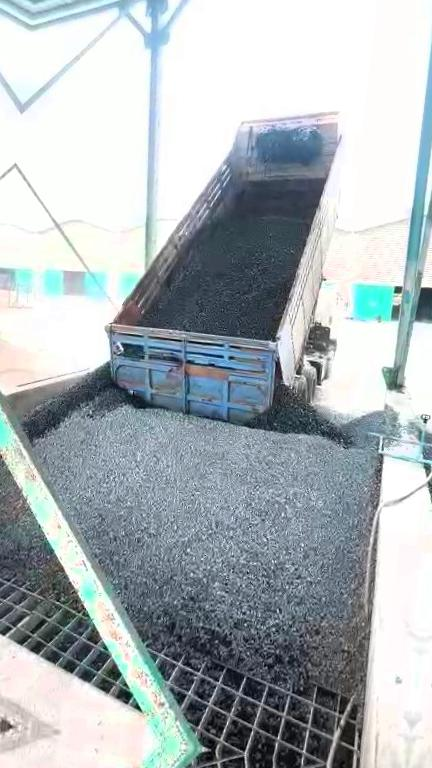gravel: (20, 357, 401, 690), (143, 213, 303, 340), (0, 450, 71, 597)
sand: (0, 334, 69, 389)
